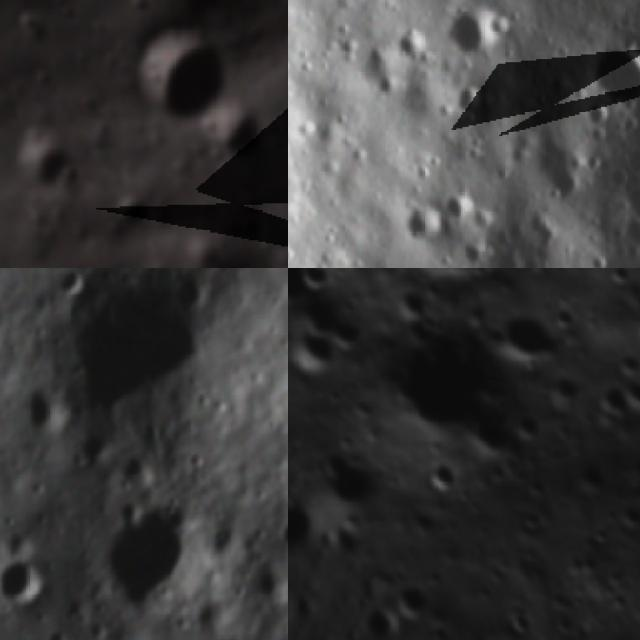crater: (340, 280, 557, 503), (55, 268, 221, 416), (117, 12, 242, 139), (96, 500, 208, 614), (335, 268, 549, 321), (482, 296, 567, 381), (299, 440, 383, 526), (6, 128, 82, 196), (200, 97, 275, 159), (288, 319, 346, 392), (444, 5, 507, 69), (588, 37, 640, 110), (99, 182, 159, 245), (319, 304, 377, 364), (383, 573, 440, 630), (382, 276, 437, 332), (394, 200, 448, 255), (412, 452, 464, 505), (0, 553, 53, 604), (540, 163, 588, 217), (588, 378, 637, 427), (503, 404, 551, 450), (544, 366, 590, 414), (167, 268, 218, 310), (566, 457, 610, 503), (437, 192, 486, 232), (22, 383, 58, 434), (544, 298, 585, 339), (249, 563, 287, 606), (288, 268, 317, 320), (32, 619, 98, 640), (594, 268, 640, 298), (289, 268, 332, 300), (452, 83, 485, 123), (608, 346, 640, 385), (611, 497, 640, 540), (500, 607, 537, 640), (613, 215, 640, 258), (53, 268, 89, 298), (421, 614, 458, 640), (620, 376, 640, 414), (627, 298, 640, 353), (518, 268, 557, 286), (278, 513, 288, 549)
